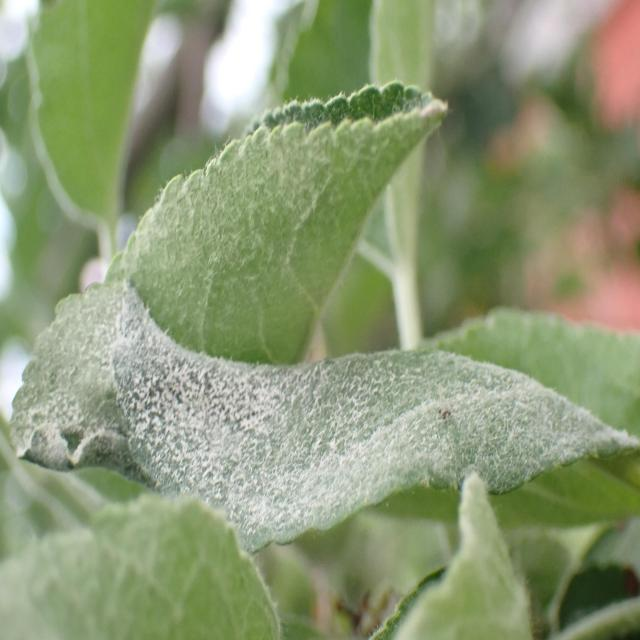Powdery_mildew: (0, 269, 640, 566), (48, 50, 446, 268)
